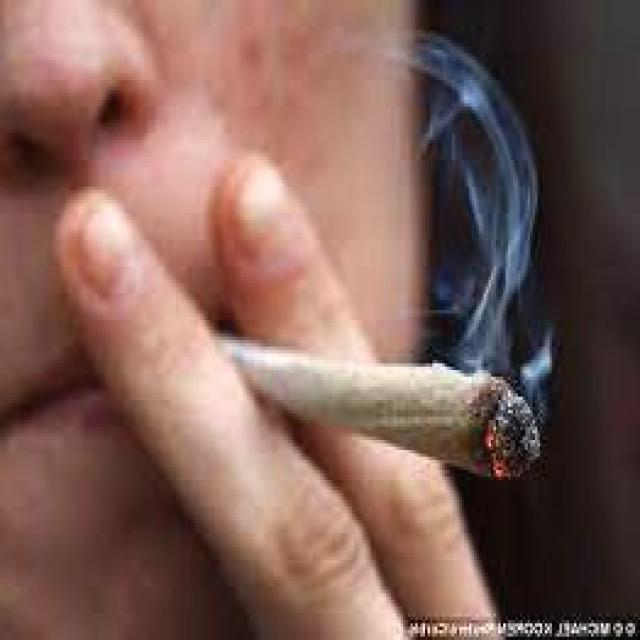cigarette: (218, 330, 550, 493)
